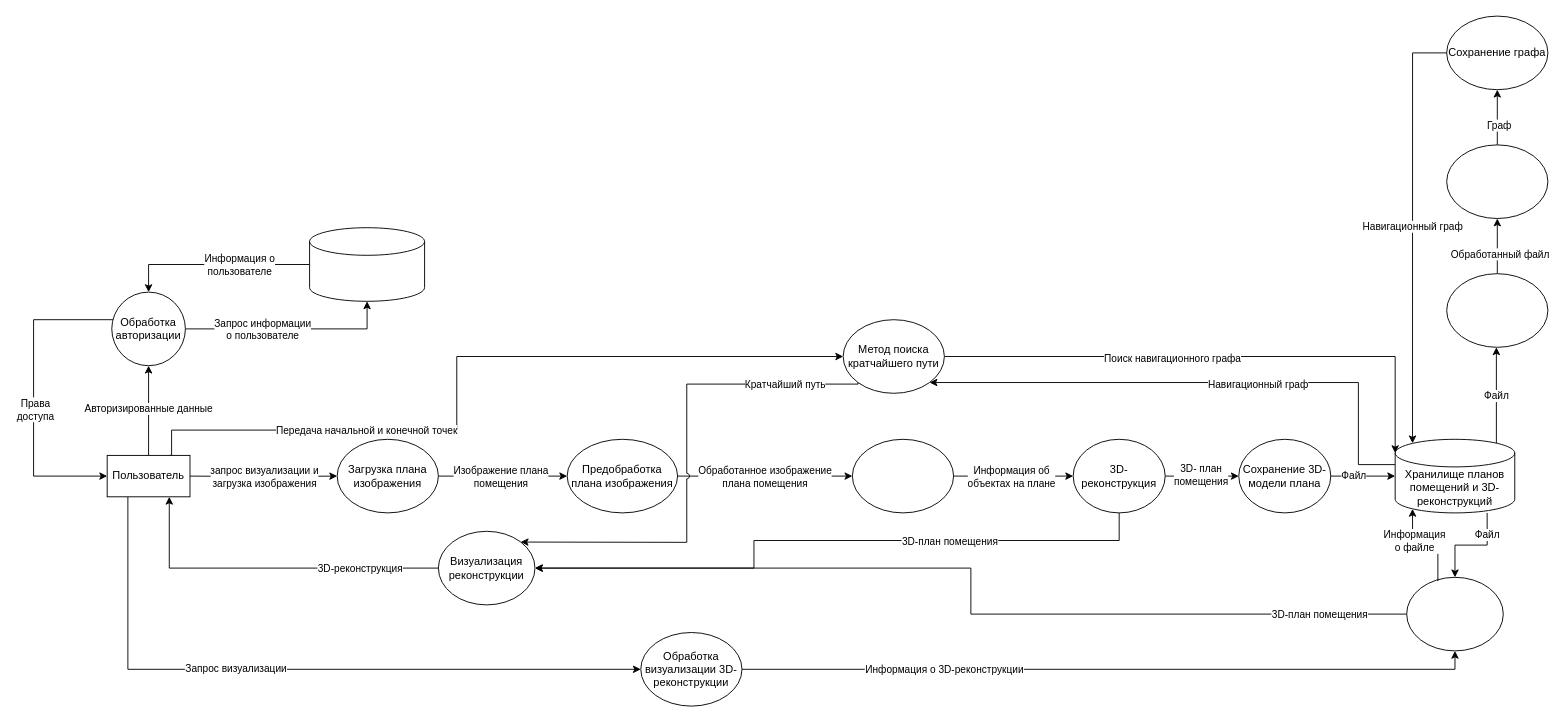
The diagram is 1565 pixels wide and 722 high, and some of its shapes have lost their labels. Each missing label, with the box of its shape:
База данных пользователей: (309, 227, 425, 301)
Запрос файла 3D-рекоснтрукции: (1406, 576, 1503, 651)
Определение проходимых зон: (1446, 273, 1548, 347)
Распознавание объектов на изображении: (851, 438, 954, 513)
Создание графа: (1446, 144, 1548, 218)
